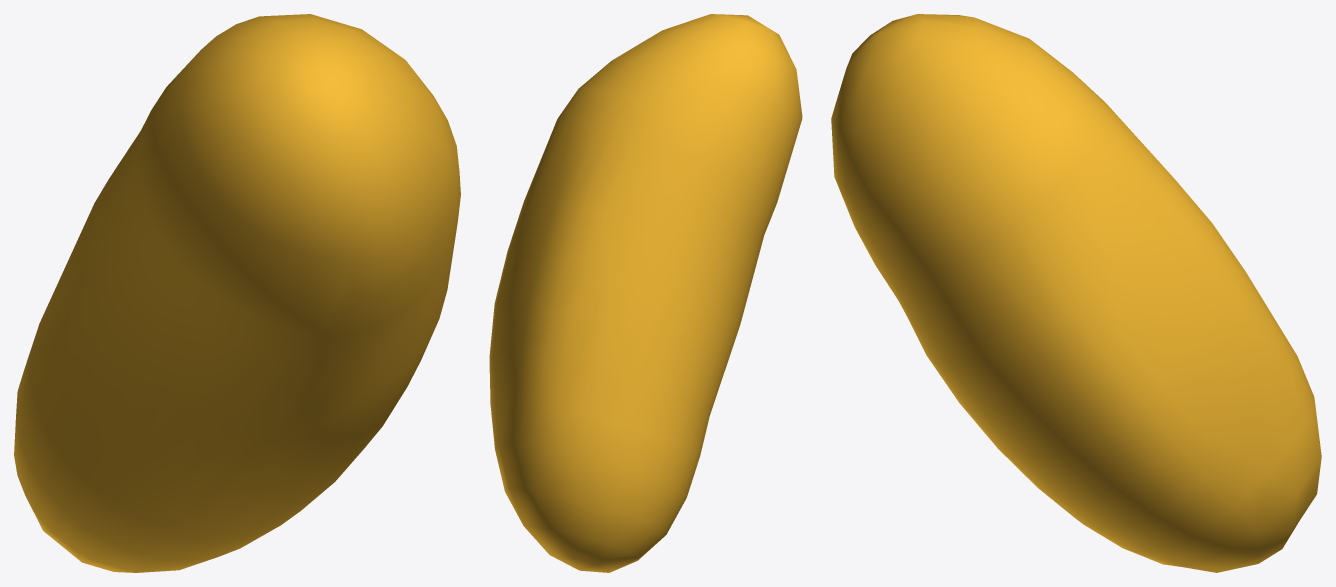
The model's file is nervoso-pyramid-of-medulla-oblongata-l.glb.
3 renders of one model, left to right at view 1: azimuth 30°, elevation 25°; view 2: azimuth 150°, elevation 25°; view 3: azimuth 270°, elevation 25°, orthographic. The views are drawn at different scales.
Parts seen in each view (by area): view 1: Pyramid of medulla oblongata.l; view 2: Pyramid of medulla oblongata.l; view 3: Pyramid of medulla oblongata.l.
Part boxes in pixels (bbox=[...]): Pyramid of medulla oblongata.l: bbox=[14, 14, 460, 572]; Pyramid of medulla oblongata.l: bbox=[489, 14, 802, 572]; Pyramid of medulla oblongata.l: bbox=[831, 14, 1321, 572].
Bounding box in the file's own units: 0.00673 × 0.0133 × 0.011.
